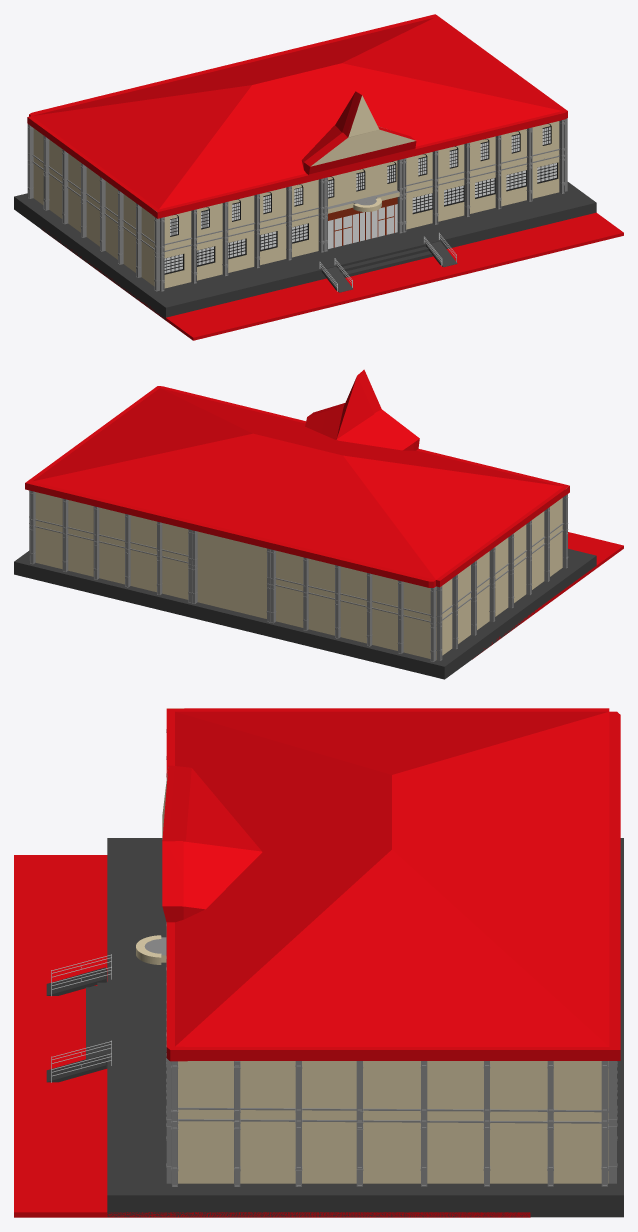
File: library.fbx
3 views of the same model, one above another, from view 1: azimuth 30°, elevation 25°; view 2: azimuth 150°, elevation 25°; view 3: azimuth 270°, elevation 25° (orthographic). The views are drawn at different scales.
Visible parts, largest first — view 1: Cube.001, Cube.003, Cube.002, Cube.031, Cube.037, Cube.017; view 2: Cube.001, Cube.003, Cube.031, Cube.002; view 3: Cube.001, Cube.003, Cube.002, Cube.031, Cube.037.
Part boxes in pixels (x1,y1,x2,y2): Cube.001: (27, 14, 567, 288); Cube.003: (14, 182, 596, 320); Cube.002: (42, 212, 623, 340); Cube.031: (27, 118, 567, 291); Cube.037: (321, 241, 457, 292); Cube.017: (333, 198, 394, 247); Cube.001: (25, 369, 569, 659); Cube.003: (14, 548, 596, 679); Cube.031: (29, 490, 568, 661); Cube.002: (472, 532, 623, 659); Cube.001: (144, 708, 620, 1183); Cube.003: (86, 838, 623, 1217); Cube.002: (14, 855, 530, 1217); Cube.031: (166, 729, 617, 1186); Cube.037: (46, 967, 106, 1082).
Size of the model in its own units: 9612 by 3415 by 6930.
